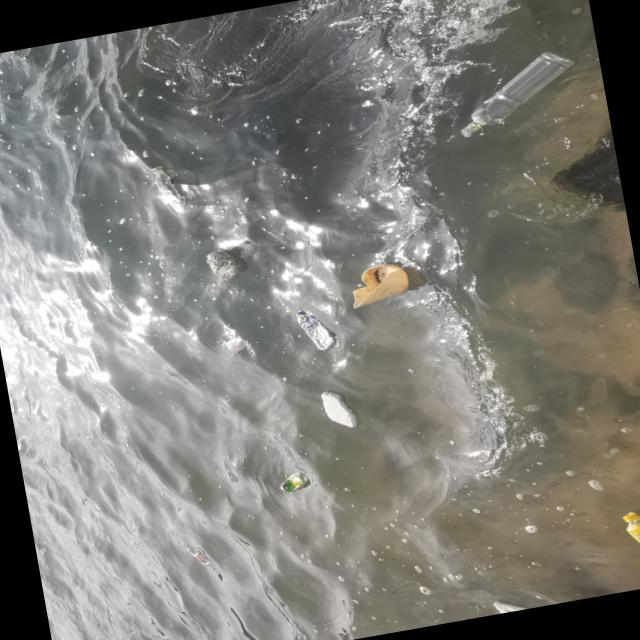can: (278, 470, 311, 492)
foam: (320, 386, 358, 431), (203, 246, 242, 282), (488, 593, 538, 615)
plastic: (456, 45, 586, 131), (296, 304, 339, 354), (621, 504, 640, 573), (182, 539, 212, 569)
plastic bottle: (345, 258, 415, 308)
